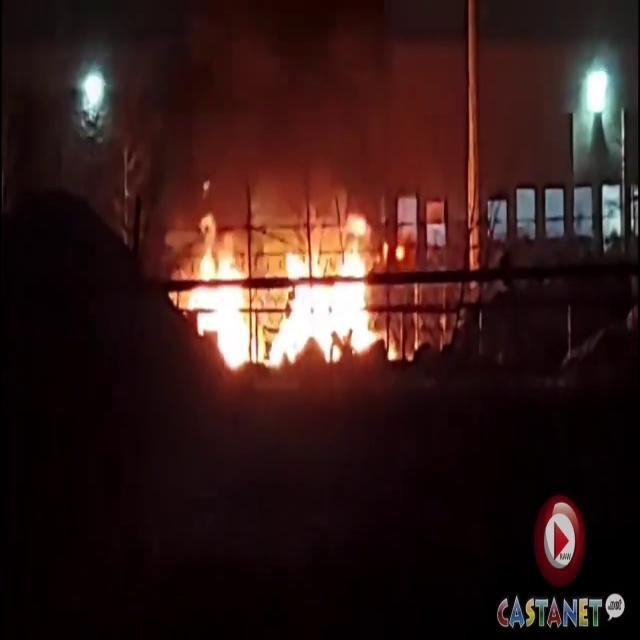Fire: (176, 220, 398, 378)
Smoke: (130, 1, 416, 230)
